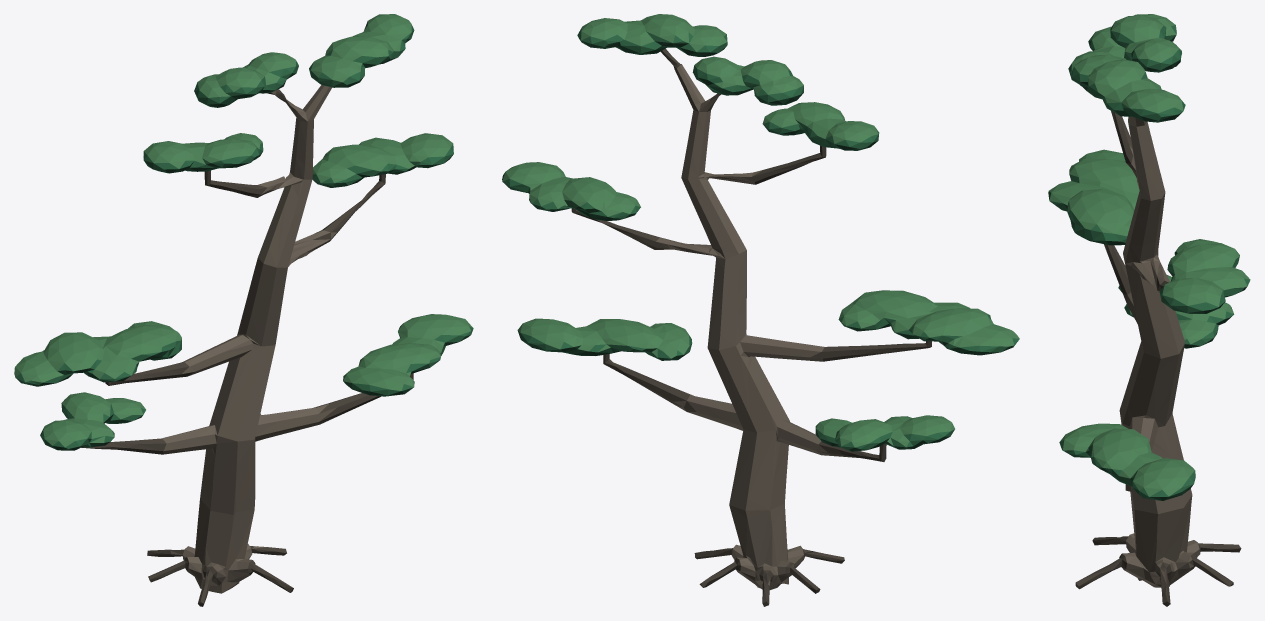
Rendered from ancient-pine-1256-lod0.glb.
3 renders of one model, left to right at view 1: azimuth 30°, elevation 25°; view 2: azimuth 150°, elevation 25°; view 3: azimuth 270°, elevation 25°, orthographic. The views are drawn at different scales.
Parts seen in each view (by area): view 1: n12.004, n8.004, n11.004, n9.004, n10.004; view 2: n12.004, n8.004, n11.004, n9.004, n10.004; view 3: n12.004, n8.004, n11.004, n9.004, n10.004.
Part boxes in pixels (x1,y1,x2,y2): n12.004: (14,14,472,447); n8.004: (162,85,336,593); n11.004: (15,21,473,448); n9.004: (81,89,413,606); n10.004: (16,38,470,450); n12.004: (502,14,1019,447); n8.004: (656,64,836,589); n11.004: (502,27,1019,449); n9.004: (571,48,931,606); n10.004: (503,39,1017,451); n12.004: (1049,14,1249,496); n8.004: (1119,116,1200,587); n11.004: (1048,22,1250,496); n9.004: (1075,111,1241,606); n10.004: (1060,35,1247,500).
Bounding box in the file's own units: 5.09 × 5.43 × 1.7.
